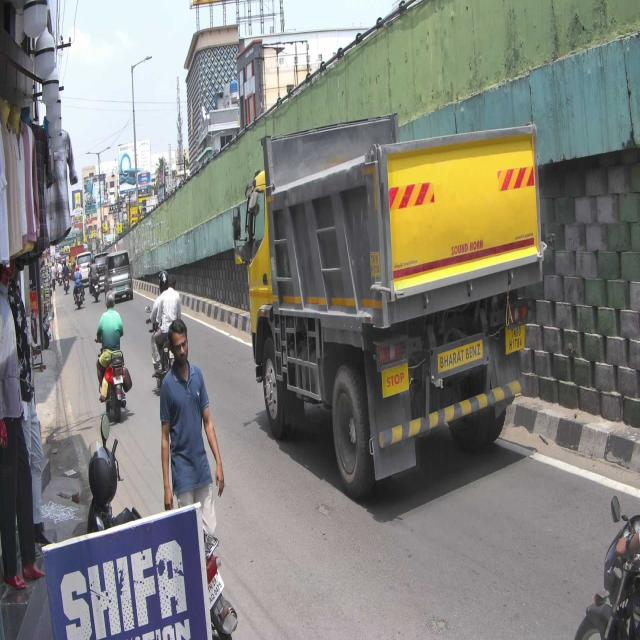single_rider: (94, 288, 132, 423)
